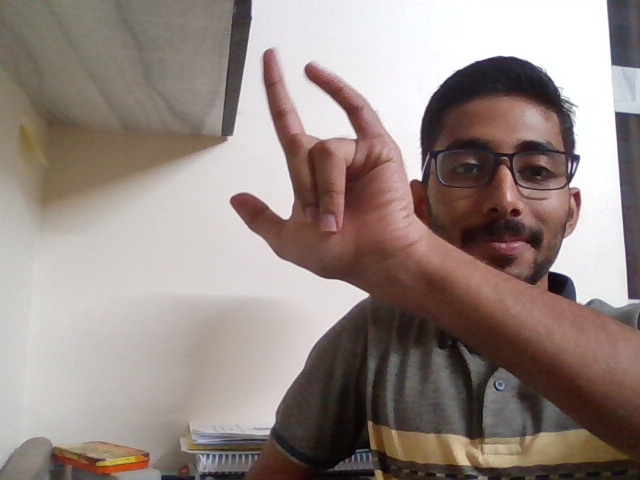Enjoy: (211, 38, 433, 322)
